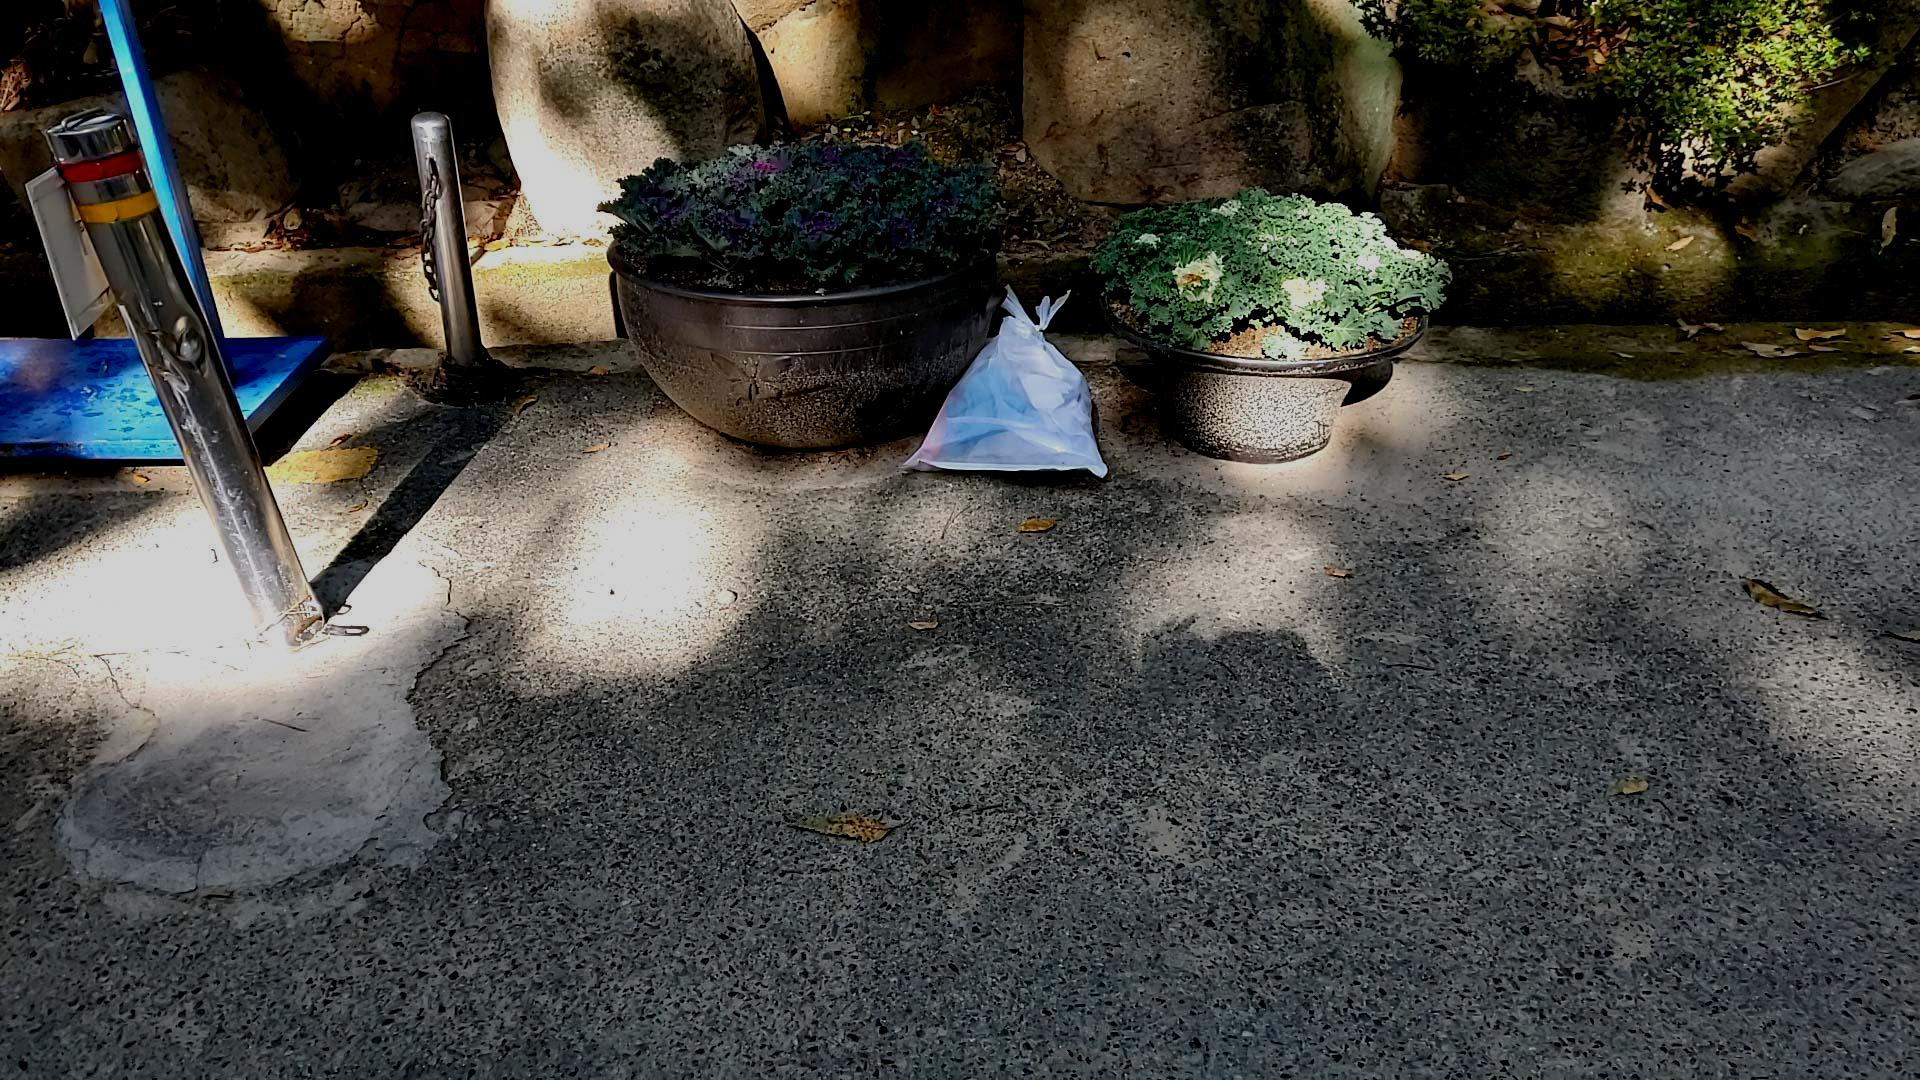white_bag: (895, 269, 1116, 495)
